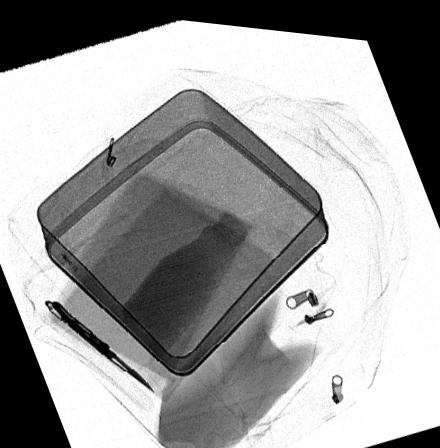Knife: (41, 296, 159, 393)
